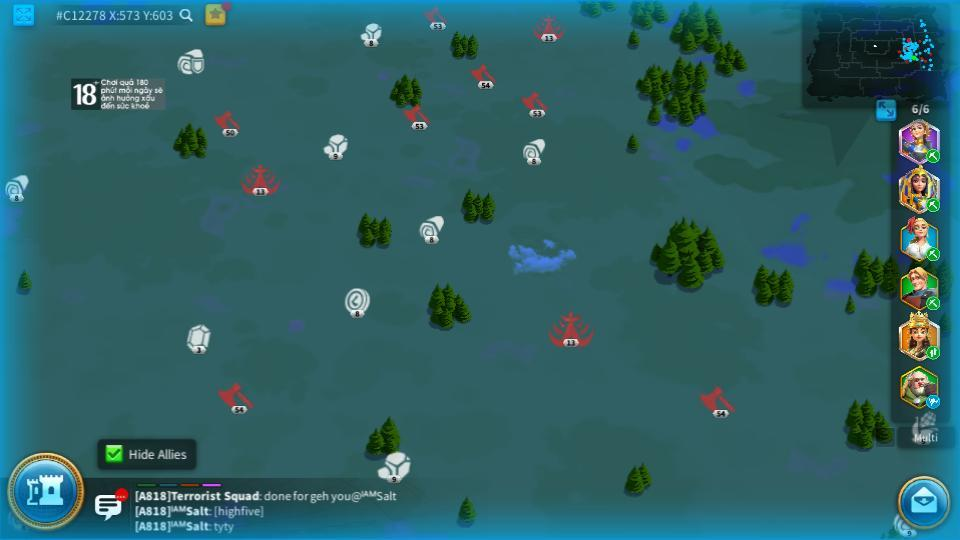gem-z-out: (185, 325, 211, 353)
march_farming: (923, 197, 940, 212), (925, 149, 941, 162), (925, 297, 941, 308)
march_idle: (925, 395, 942, 407)
march_marching: (925, 345, 941, 359)
